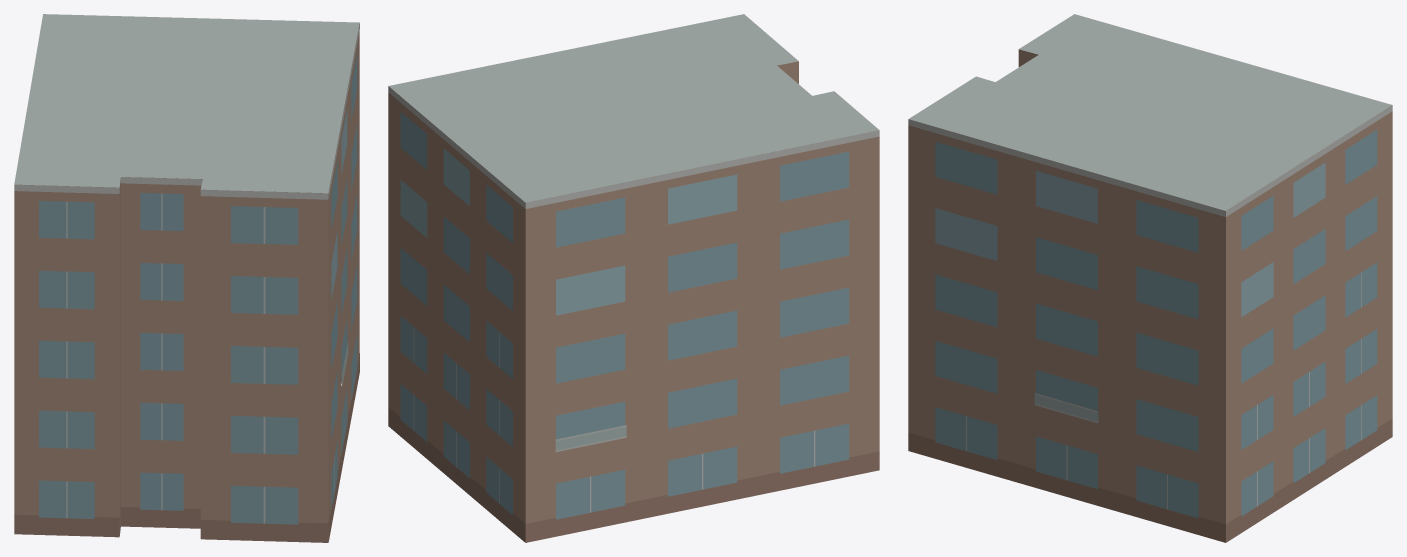
The model's file is survey-upis-32884223.glb.
The picture shows the model from 3 angles, left to right: view 1: azimuth 30°, elevation 25°; view 2: azimuth 150°, elevation 25°; view 3: azimuth 270°, elevation 25°; orthographic projection. The views are drawn at different scales.
Visible parts, largest first — view 1: survey-upis-32884223.tmp; view 2: survey-upis-32884223.tmp; view 3: survey-upis-32884223.tmp.
Part boxes in pixels (<box>): survey-upis-32884223.tmp: <box>14,14,359,542</box>; survey-upis-32884223.tmp: <box>388,14,879,542</box>; survey-upis-32884223.tmp: <box>908,14,1392,542</box>.
Size of the model in its own units: 16.72 by 13.13 by 17.37.
